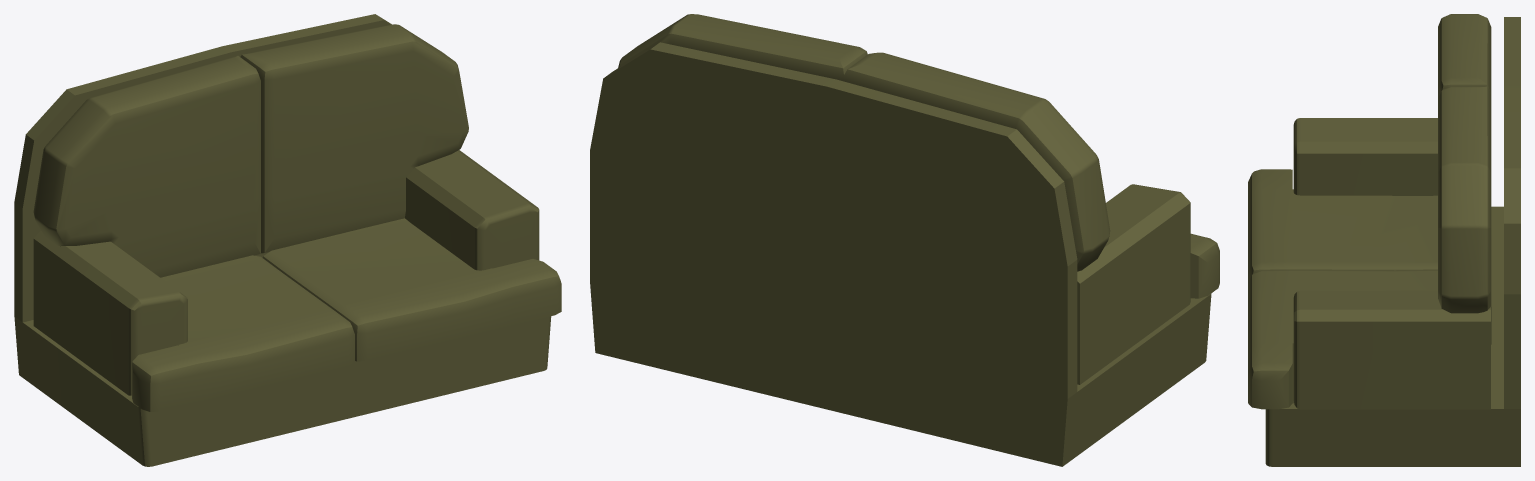
Rendered from green sofa.fbx.
3 renders of one model, left to right at view 1: azimuth 30°, elevation 25°; view 2: azimuth 150°, elevation 25°; view 3: azimuth 270°, elevation 25°, orthographic. The views are drawn at different scales.
Visible parts, largest first — view 1: pCube86; view 2: pCube86; view 3: pCube86.
Boxes of the visible parts, box(x1,y1,x2,y2) form: pCube86: box(14, 14, 561, 466); pCube86: box(590, 14, 1219, 466); pCube86: box(1248, 14, 1520, 466).
Bounding box in the file's own units: 11.68 × 7.59 × 6.54.
